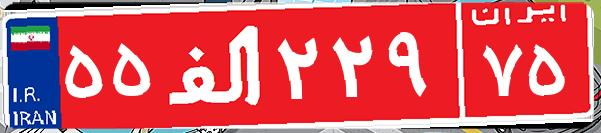2: (273, 28, 330, 110), (330, 28, 385, 110)
5: (57, 26, 110, 107), (110, 28, 158, 105), (525, 38, 570, 115)
7: (475, 38, 525, 113)
9: (385, 28, 445, 110)
الف: (158, 15, 273, 115)
